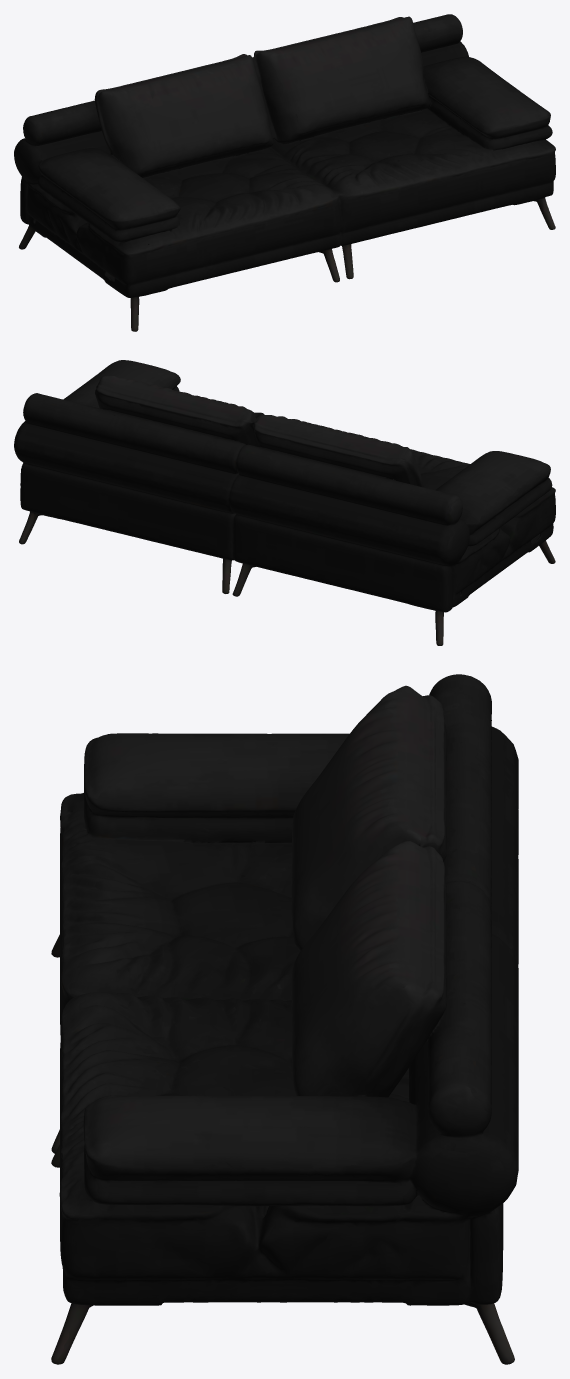
The model's file is black_sofa.glb.
The picture shows the model from 3 angles, top to bottom: view 1: azimuth 30°, elevation 25°; view 2: azimuth 150°, elevation 25°; view 3: azimuth 270°, elevation 25°; orthographic projection. The views are drawn at different scales.
Visible parts, largest first — view 1: world; view 2: world; view 3: world.
Part boxes in pixels (left/top/right/bottom): world: left=14, top=14, right=555, bottom=331; world: left=14, top=360, right=555, bottom=645; world: left=51, top=674, right=518, bottom=1364.
Size of the model in its own units: 1 by 0.3538 by 0.4611.
Materials: 1 (1 with a texture image).
